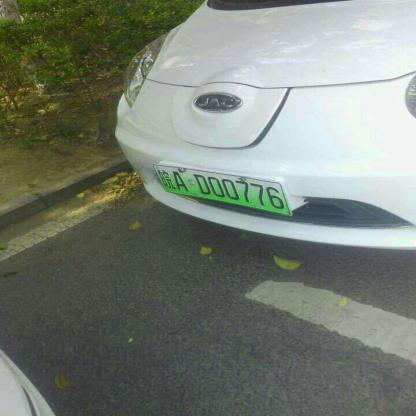lp: (153, 165, 290, 217)
